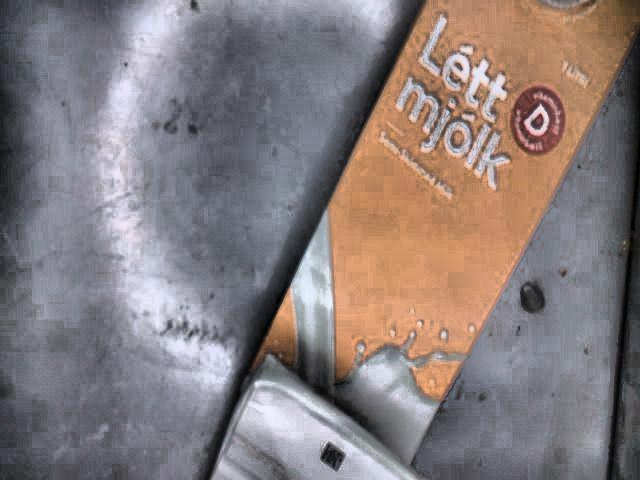Paper: (204, 0, 640, 480)
